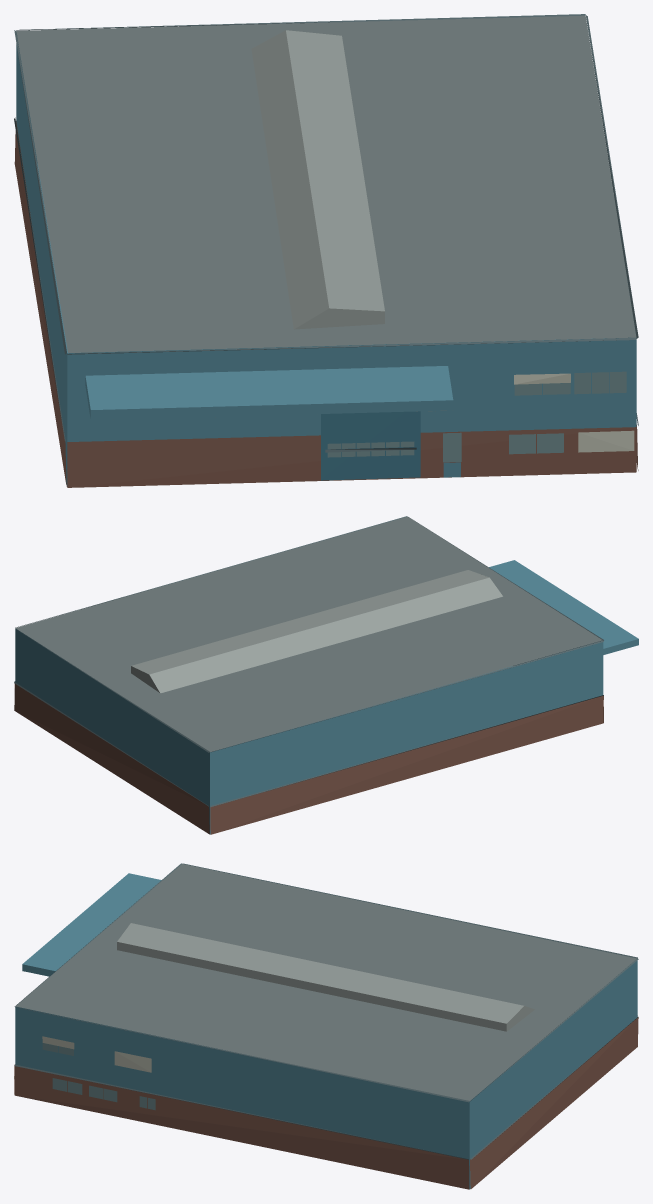
Rendered from haparandaweg-57.lod2.glb.
3 views of the same model, one above another, from view 1: azimuth 30°, elevation 25°; view 2: azimuth 150°, elevation 25°; view 3: azimuth 270°, elevation 25° (orthographic). The views are drawn at different scales.
Visible parts, largest first — view 1: lod2; view 2: lod2; view 3: lod2.
Part boxes in pixels (x1=…): lod2: x1=14, y1=14, x2=638, y2=487; lod2: x1=14, y1=516, x2=638, y2=834; lod2: x1=14, y1=863, x2=638, y2=1189.
Bounding box in the file's own units: 42.67 × 8.27 × 46.28.
